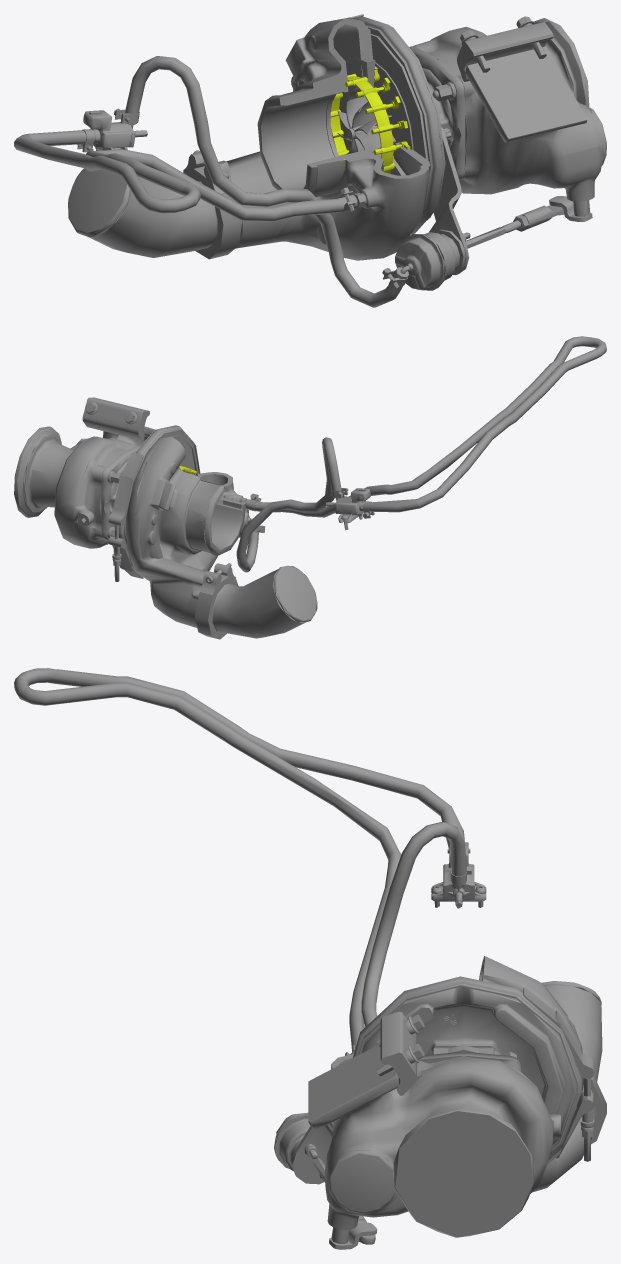
The model's file is Exxotest_Export_Turbo coupe.FBX.
3 views of the same model, one above another, from view 1: azimuth 30°, elevation 25°; view 2: azimuth 150°, elevation 25°; view 3: azimuth 270°, elevation 25° (orthographic). The views are drawn at different scales.
Parts seen in each view (by area): view 1: 23044225_turbo_Coupe, turbo coupe, Plane002, turbo coupe 02, hélice, Cylinder011, Cylinder084; view 2: 23044225_turbo_Coupe, turbo coupe, Plane002, turbo coupe 02; view 3: 23044225_turbo_Coupe.
Part boxes in pixels (x1=…): 23044225_turbo_Coupe: x1=14, y1=14, x2=606, y2=307; turbo coupe: x1=261, y1=83, x2=442, y2=188; Plane002: x1=280, y1=18, x2=430, y2=178; turbo coupe 02: x1=353, y1=29, x2=429, y2=170; hélice: x1=337, y1=96, x2=395, y2=157; Cylinder011: x1=344, y1=57, x2=405, y2=175; Cylinder084: x1=375, y1=62, x2=413, y2=149; 23044225_turbo_Coupe: x1=14, y1=336, x2=606, y2=639; turbo coupe: x1=204, y1=502, x2=242, y2=550; Plane002: x1=150, y1=437, x2=245, y2=558; turbo coupe 02: x1=161, y1=431, x2=198, y2=474; 23044225_turbo_Coupe: x1=14, y1=668, x2=606, y2=1249.
Size of the model in its own units: 1662 by 799 by 1316.
